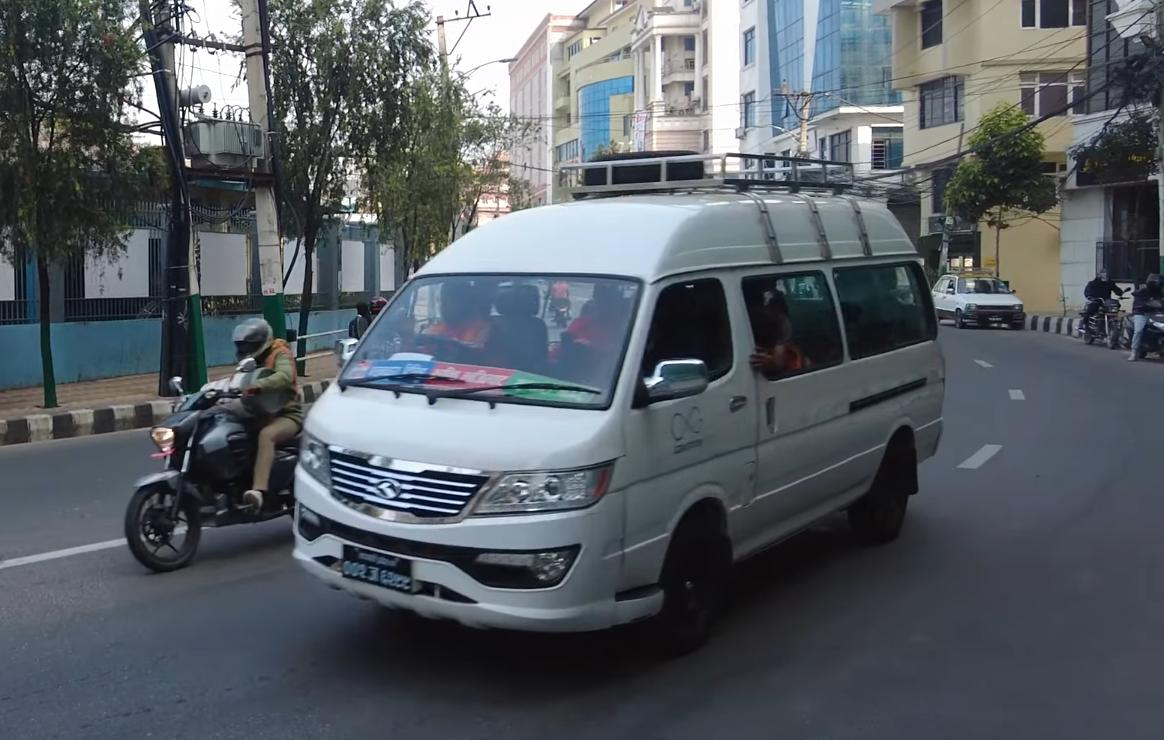bike: (119, 369, 314, 571), (1079, 289, 1130, 356)
micro_bus: (282, 156, 970, 661)
taxi: (929, 269, 1028, 332)
